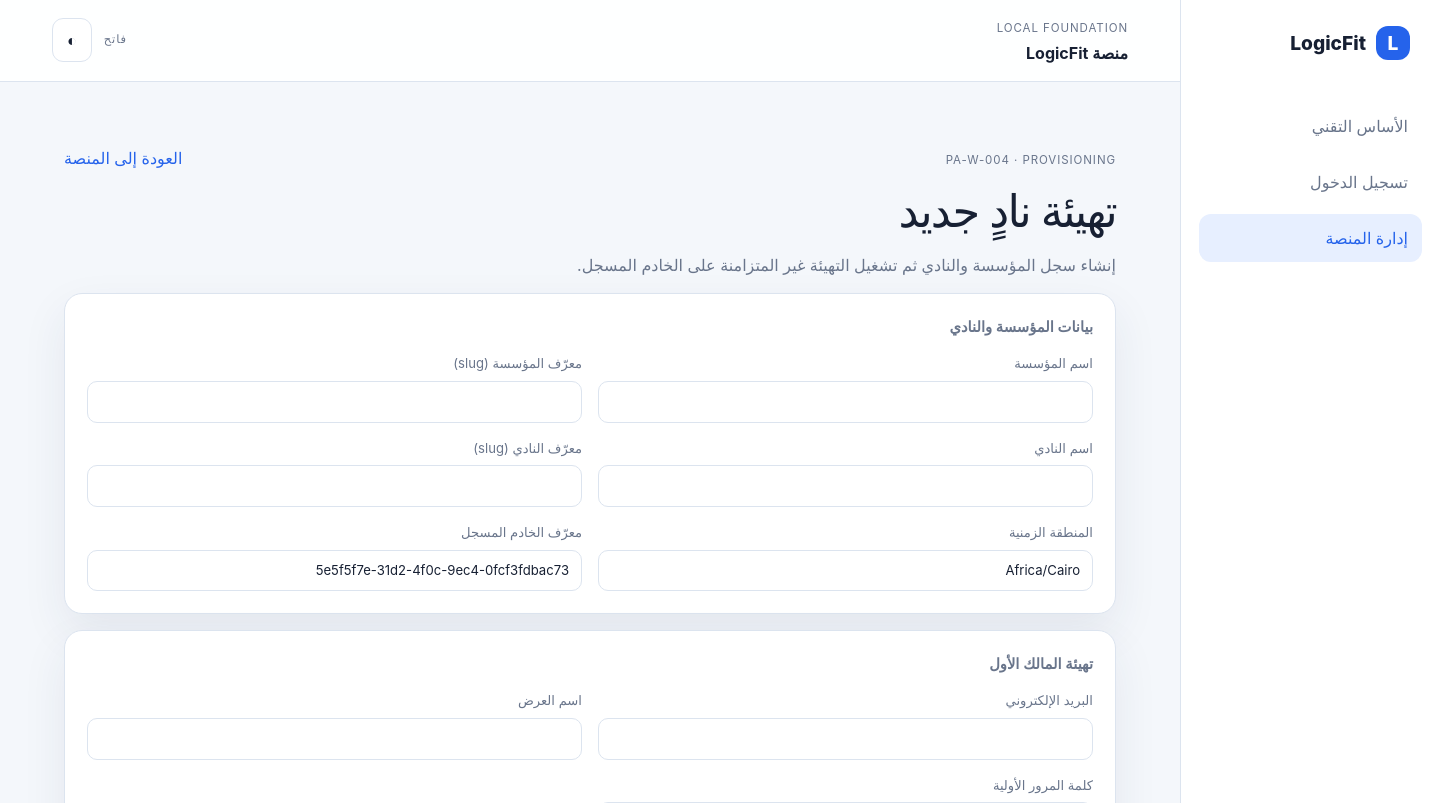
Test: submits the approved provisioning request and renders the active operation
Check: the heading "تهيئة نادٍ جديد" is shown, box x1=898 y1=184 x2=1116 y2=238
Type "Example Fitness Group" into the field labelled "اسم المؤسسة" at (846, 402), box x1=598 y1=381 x2=1093 y2=423
Type "example-fitness-group" into the field labelled "معرّف المؤسسة (slug)" at (334, 402), box x1=87 y1=381 x2=582 y2=423
Type "Downtown Gym" into the field labelled "اسم النادي" at (846, 486), box x1=598 y1=465 x2=1093 y2=507
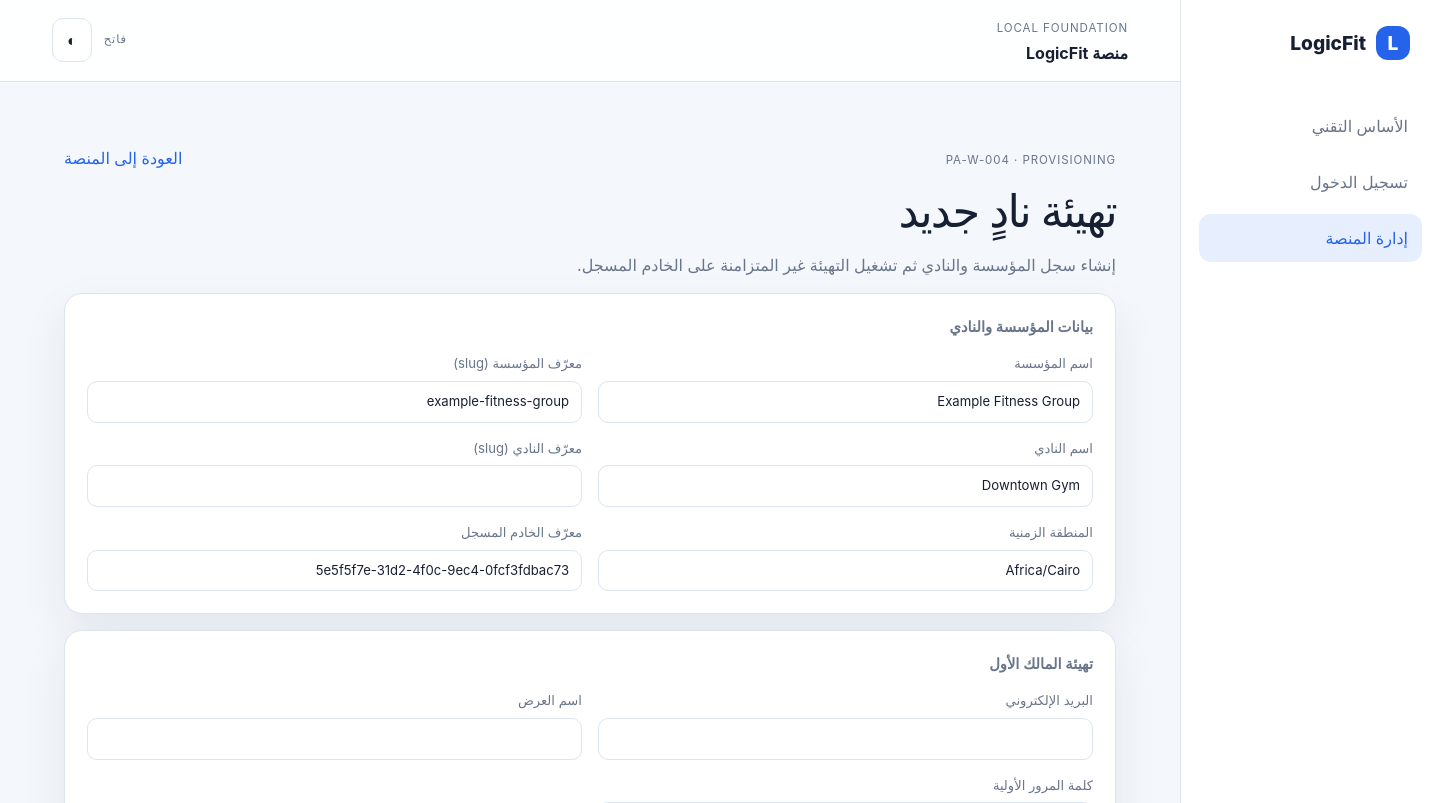
Type "downtown" into the field labelled "معرّف النادي (slug)" at (334, 486), box x1=87 y1=465 x2=582 y2=507
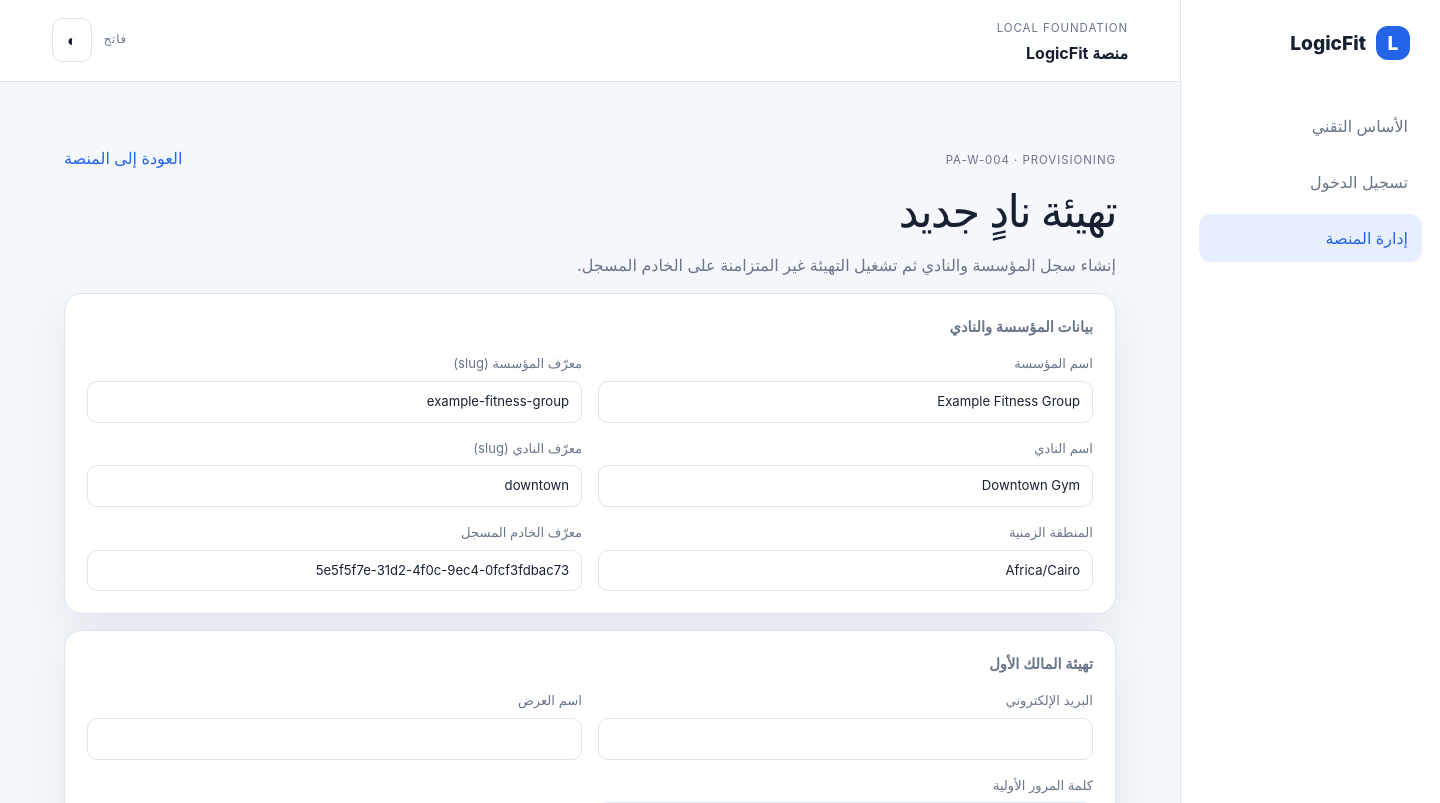
Type "owner@example.test" into the field labelled "البريد الإلكتروني" at (846, 739), box x1=598 y1=718 x2=1093 y2=760
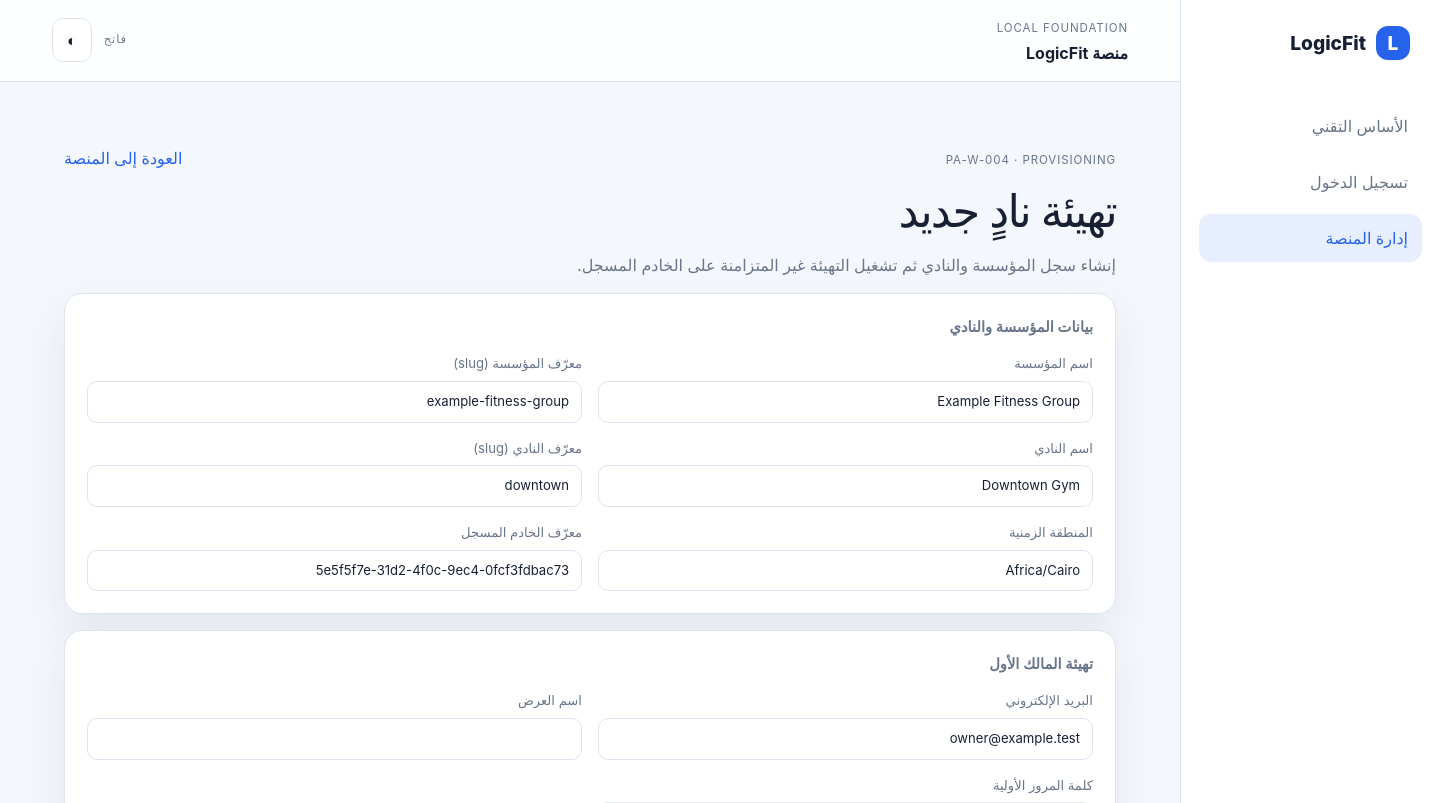
Type "Gym Owner" into the field labelled "اسم العرض" at (334, 739), box x1=87 y1=718 x2=582 y2=760
(page scrolled)
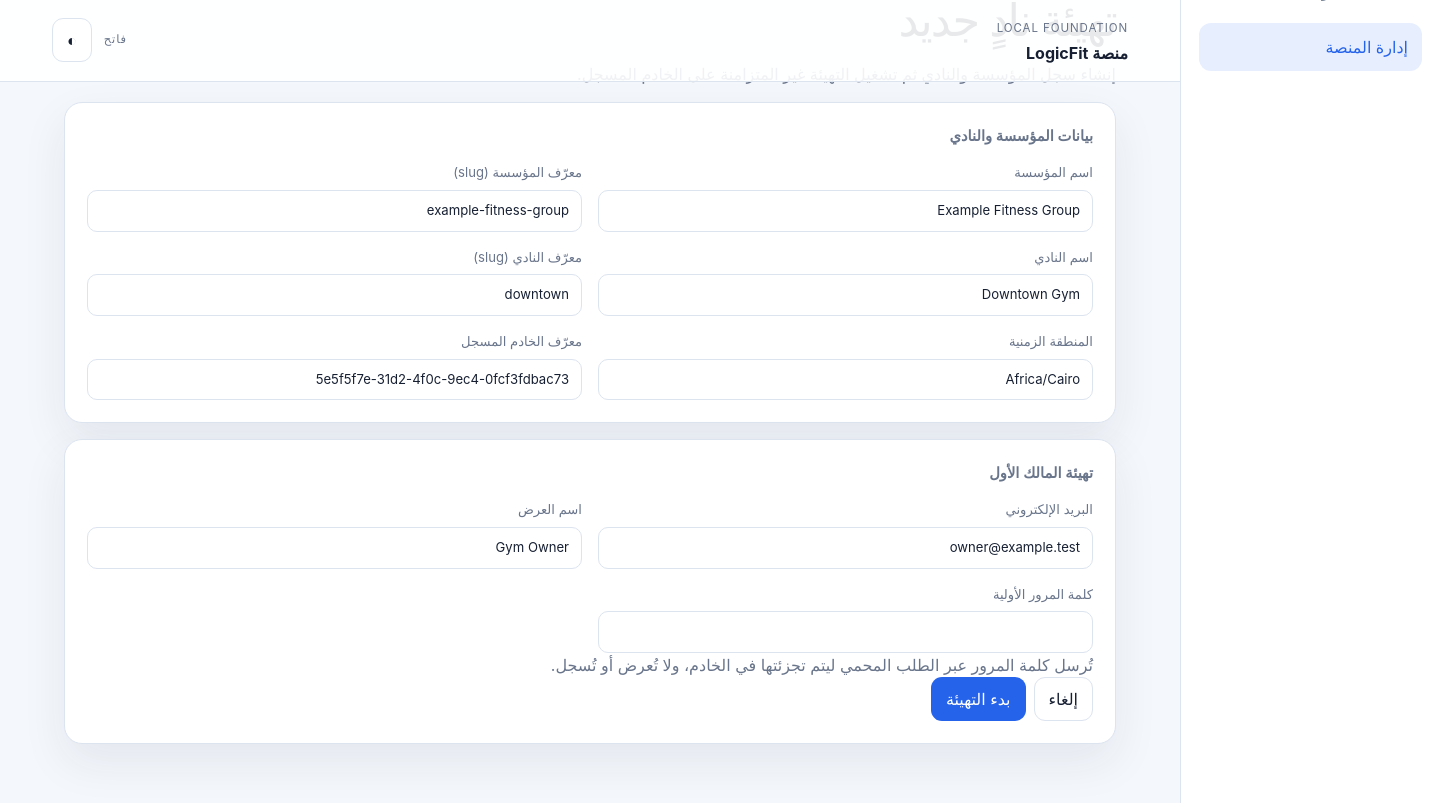
Type "Local Test Password 123!" into the password field labelled "كلمة المرور الأولية" at (846, 632), box x1=598 y1=611 x2=1093 y2=653
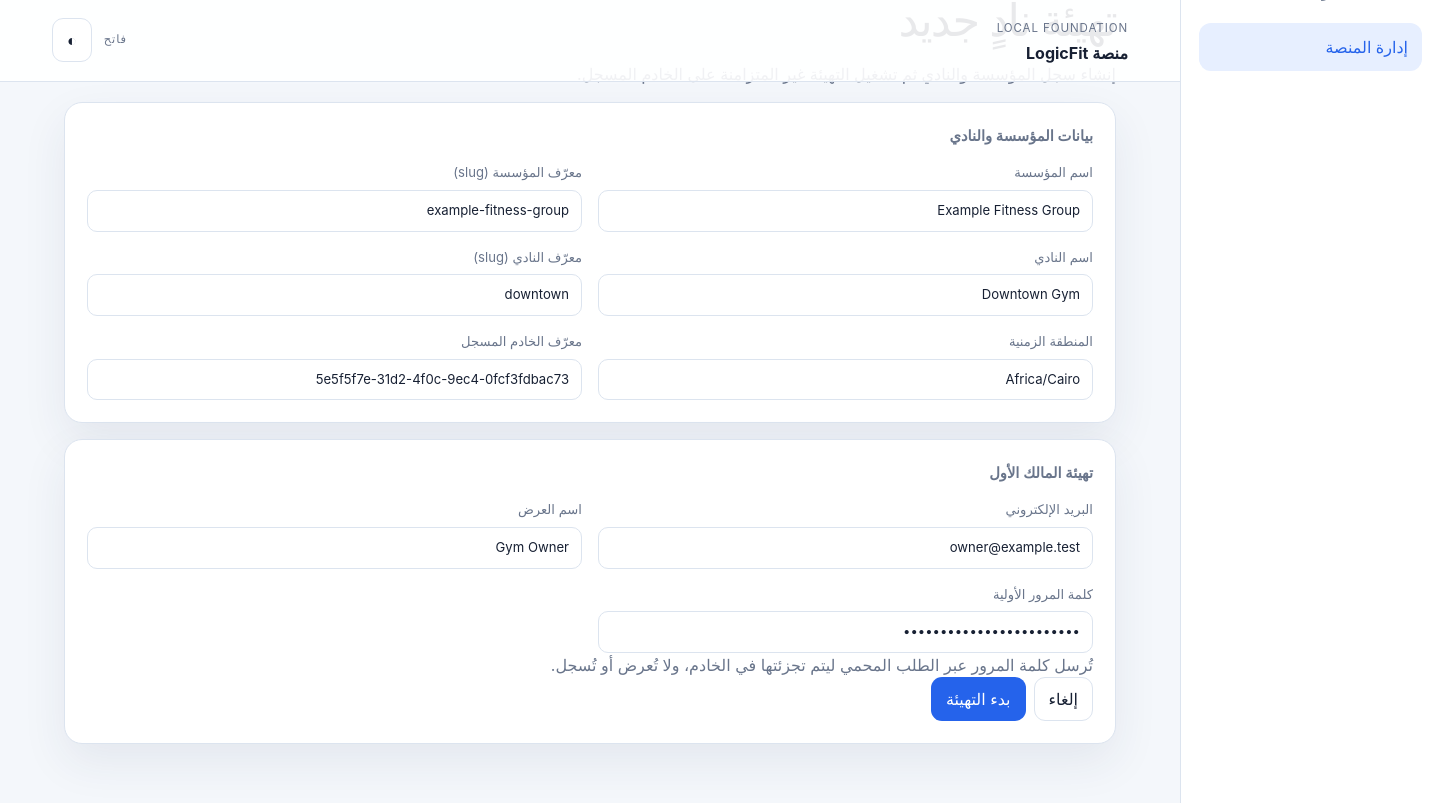
Click the button "بدء التهيئة" at (978, 699), box x1=931 y1=677 x2=1026 y2=721
(page scrolled)
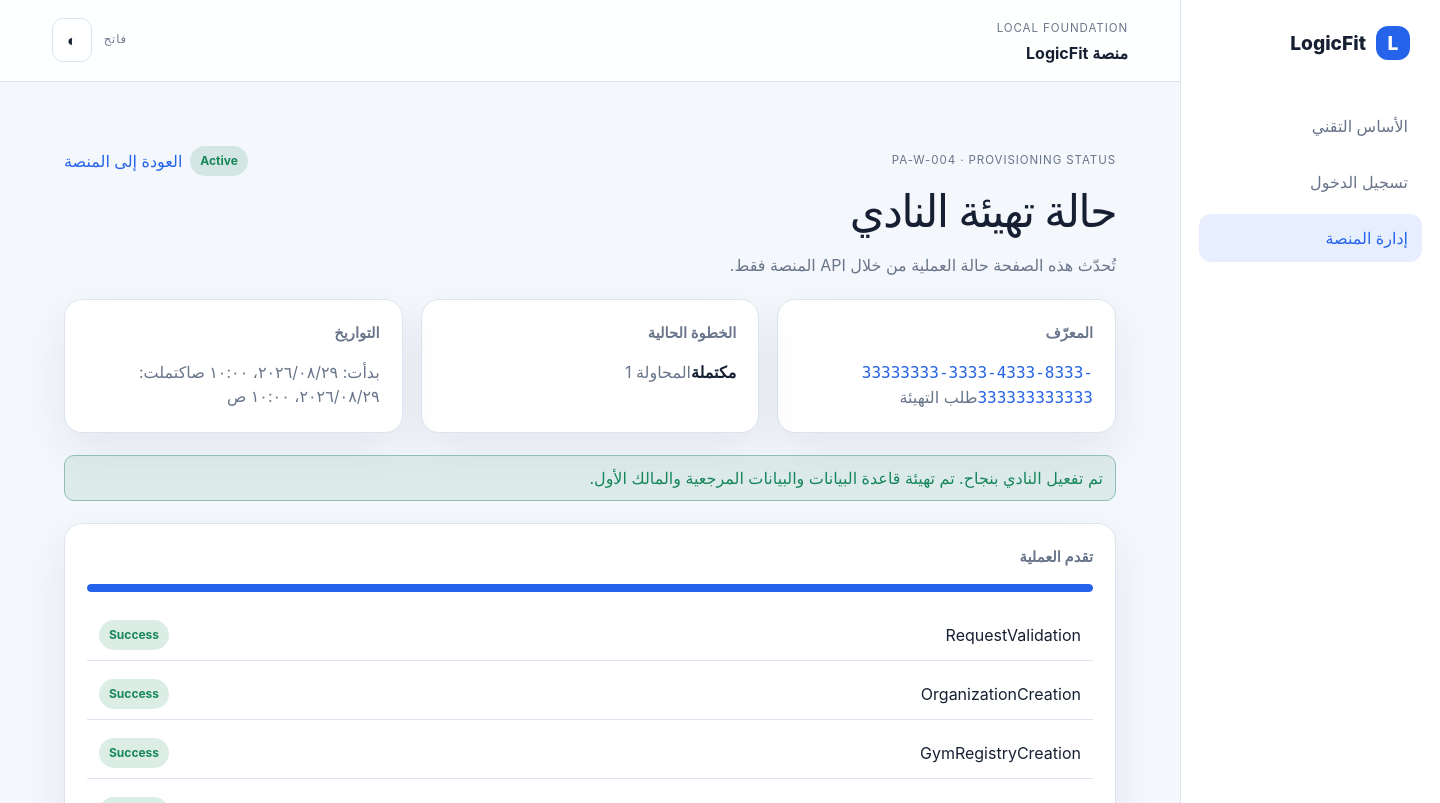
Check: the heading "حالة تهيئة النادي" is shown, box x1=850 y1=184 x2=1116 y2=238
Check: the text "تم تفعيل النادي بنجاح. تم تهيئة قاعدة البيانات والبيانات المرجعية والمالك الأول." is shown, box x1=64 y1=455 x2=1116 y2=501
